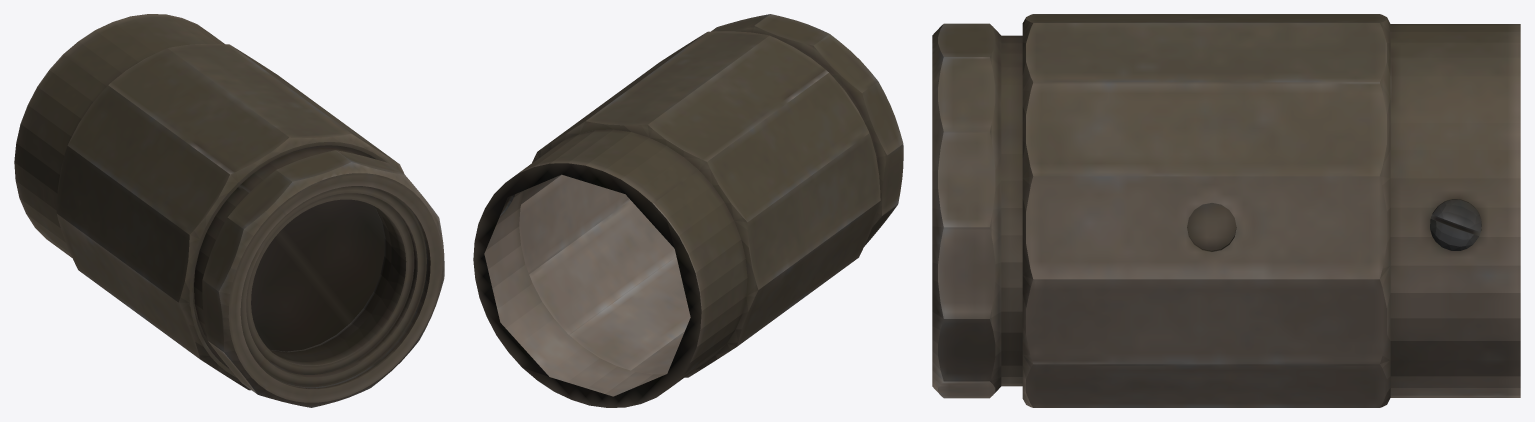
3 renders of one model, left to right at view 1: azimuth 30°, elevation 25°; view 2: azimuth 150°, elevation 25°; view 3: azimuth 270°, elevation 25°, orthographic. The views are drawn at different scales.
Parts seen in each view (by area): view 1: TW_5dfe6104585a0c3e995c7b82_PZ_Import; view 2: TW_5dfe6104585a0c3e995c7b82_PZ_Import; view 3: TW_5dfe6104585a0c3e995c7b82_PZ_Import.
Boxes of the visible parts, <box> form: TW_5dfe6104585a0c3e995c7b82_PZ_Import: <box>14,14,444,407</box>; TW_5dfe6104585a0c3e995c7b82_PZ_Import: <box>473,14,903,407</box>; TW_5dfe6104585a0c3e995c7b82_PZ_Import: <box>932,14,1520,407</box>.
Size of the model in its own units: 0.0207 by 0.0306 by 0.0207.
Materials: 1 (1 with a texture image).
